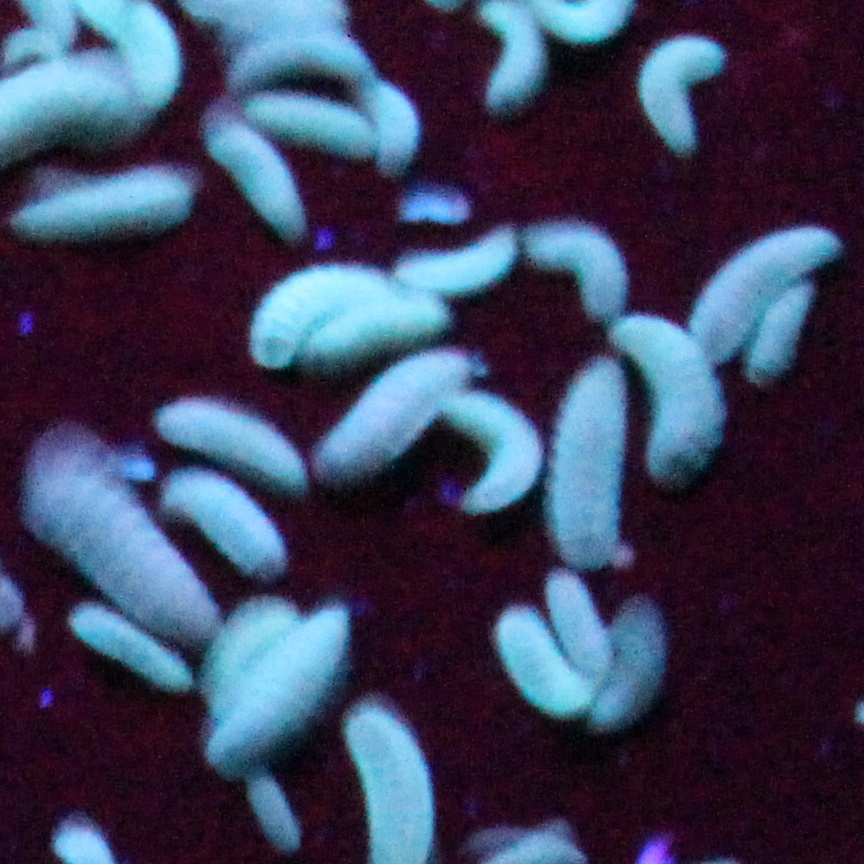larve: (19, 429, 221, 639), (206, 601, 356, 770), (308, 349, 479, 474), (608, 312, 725, 485), (694, 226, 839, 358), (552, 354, 625, 568), (8, 160, 194, 241), (162, 470, 285, 579), (260, 260, 396, 358), (154, 401, 310, 485), (208, 108, 304, 239), (446, 387, 539, 522), (633, 39, 733, 154), (494, 608, 606, 708), (306, 291, 452, 366), (69, 608, 194, 689), (527, 218, 625, 314), (387, 224, 519, 295), (202, 595, 291, 697), (246, 91, 381, 156), (594, 593, 662, 722), (477, 1, 550, 116), (541, 572, 616, 683), (748, 276, 812, 383), (225, 43, 379, 85), (248, 774, 308, 856), (366, 81, 416, 172)
